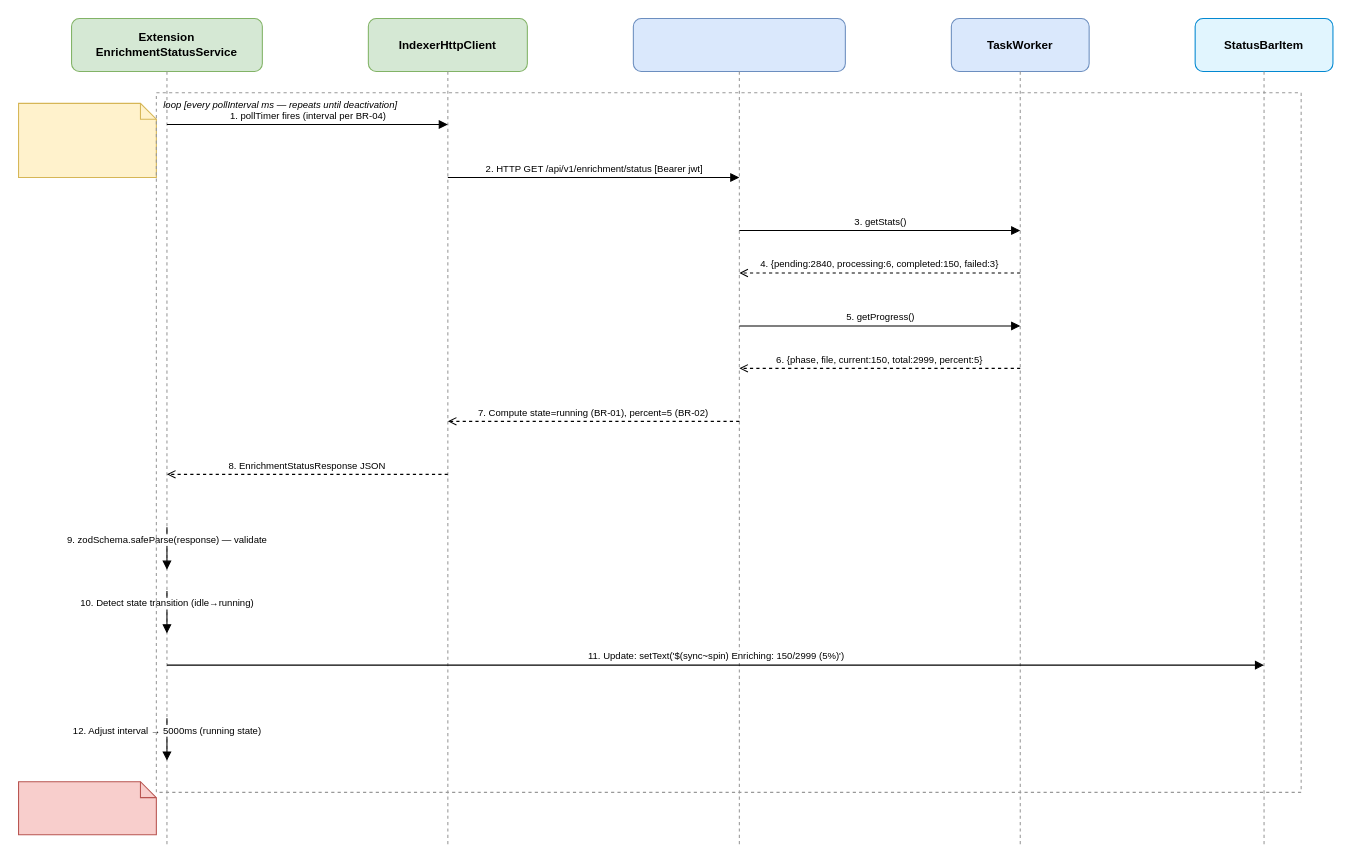
This 1351x865 diagram has some shape labels left out. Each missing label, with the box of its shape:
Backend API /api/v1/enrichment/status: (632, 17, 845, 72)
EF-1: Network error → consecutiveFailures++ → if ≥3: show 'Offline': (17, 781, 156, 835)
Polling intervals (BR-04): • idle = 30s • running = 5s • error/complete = 15s: (17, 102, 156, 178)
